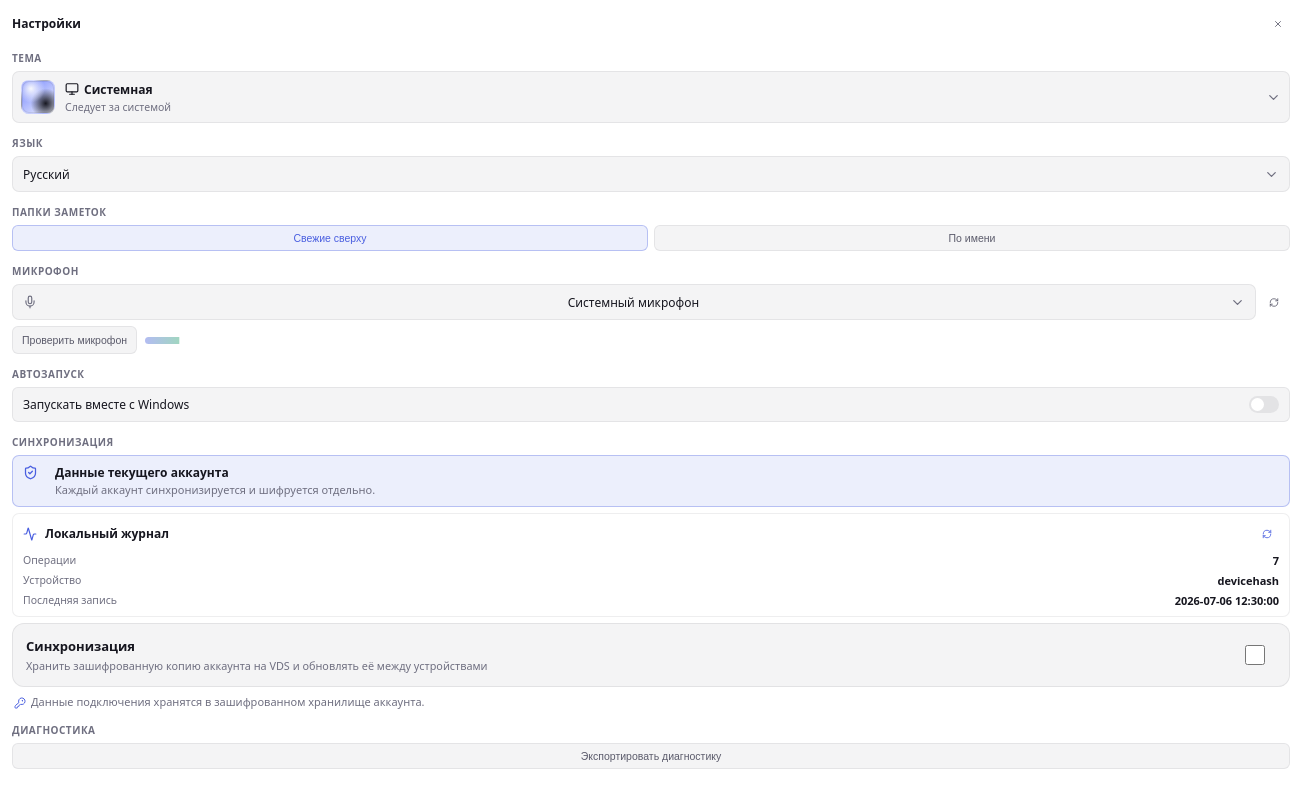
it: SettingsPanel › shows the saved path after exporting diagnostics
Click the button "Экспортировать диагностику": (651, 756) [12, 743, 1290, 769]
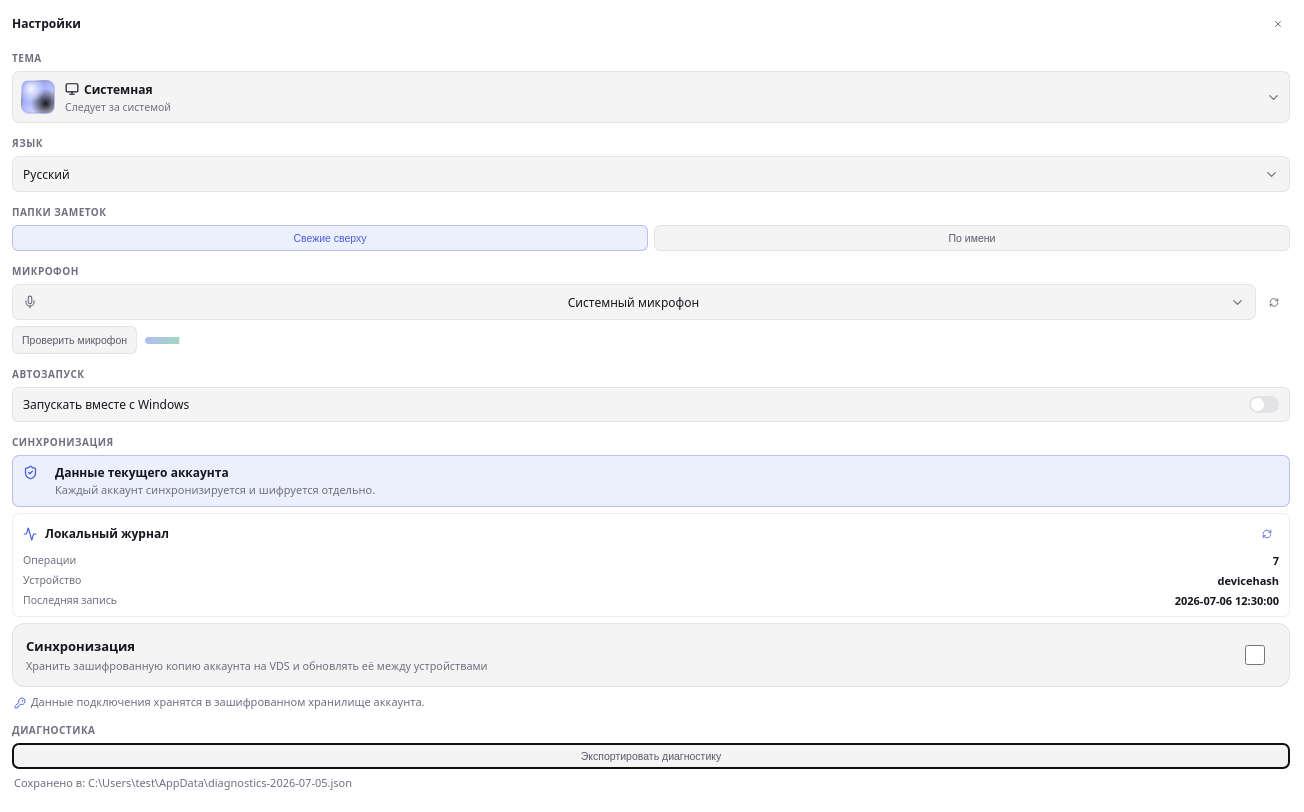
Expected: the text "diagnostics-2026-07-05.json" is shown, [88, 775, 352, 790]
